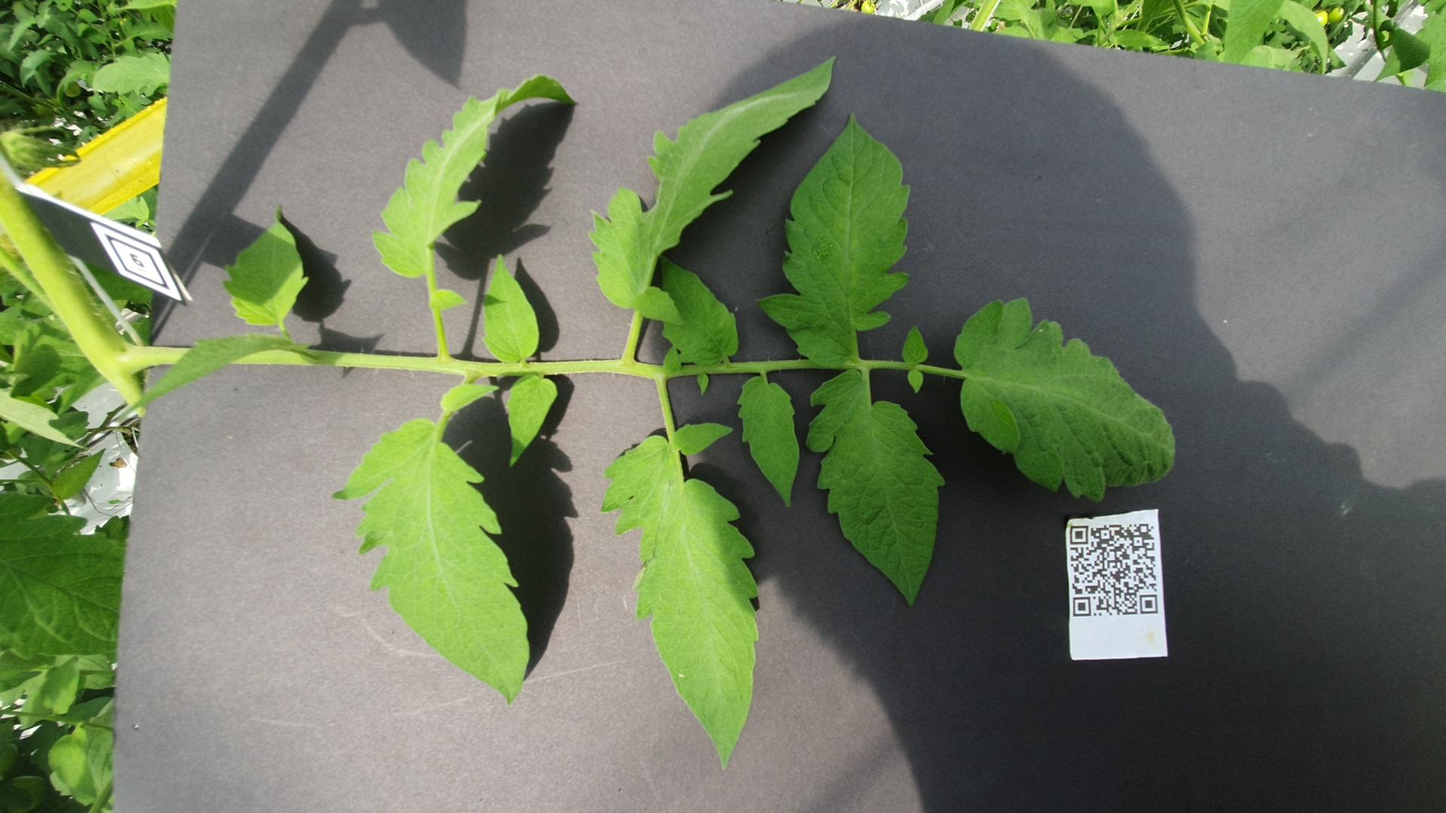Healthy: (868, 330, 1355, 471), (189, 186, 708, 299), (72, 335, 696, 427), (549, 536, 918, 662), (947, 207, 1320, 325), (792, 423, 1249, 513), (367, 452, 794, 532), (868, 125, 1081, 174), (540, 414, 780, 451), (802, 269, 1001, 304), (610, 283, 781, 315), (1271, 50, 1356, 96), (557, 29, 648, 61)
